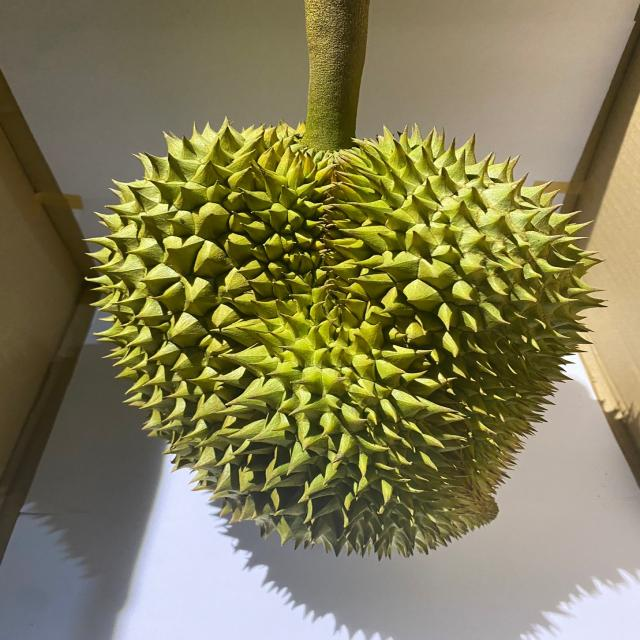immature: (89, 116, 604, 559)
